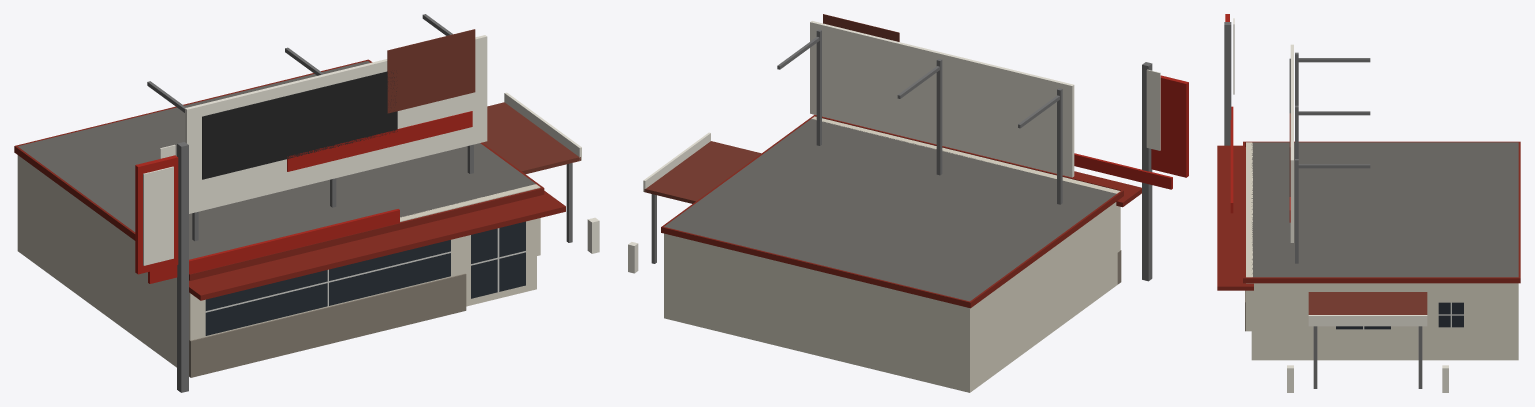
Rendered from minute-man-broadway.glb.
3 views of the same model, side by side, from view 1: azimuth 30°, elevation 25°; view 2: azimuth 150°, elevation 25°; view 3: azimuth 270°, elevation 25° (orthographic). The views are drawn at different scales.
Parts seen in each view (by area): view 1: minute_roof, minute_block, minute_sign, minute_trim, minute_glass, minute_signtext, minute_stone, minute_awning, minute_red, minute_steel, minute_sash; view 2: minute_roof, minute_block, minute_sign, minute_trim, minute_steel, minute_red, minute_awning; view 3: minute_roof, minute_block, minute_trim, minute_steel, minute_awning, minute_sign, minute_glass, minute_red.
Part boxes in pixels (left/top/right/bottom): minute_roof: left=18, top=61, right=535, bottom=259; minute_block: left=17, top=155, right=540, bottom=367; minute_sign: left=143, top=35, right=599, bottom=265; minute_trim: left=14, top=59, right=565, bottom=300; minute_glass: left=205, top=221, right=525, bottom=335; minute_signtext: left=202, top=71, right=397, bottom=179; minute_stone: left=189, top=273, right=466, bottom=377; minute_awning: left=387, top=29, right=580, bottom=174; minute_red: left=135, top=111, right=472, bottom=283; minute_steel: left=147, top=14, right=572, bottom=392; minute_sash: left=205, top=228, right=525, bottom=312; minute_roof: left=664, top=119, right=1116, bottom=301; minute_block: left=664, top=116, right=1120, bottom=392; minute_sign: left=628, top=21, right=1160, bottom=273; minute_trim: left=661, top=115, right=1141, bottom=308; minute_steel: left=651, top=29, right=1152, bottom=281; minute_red: left=1074, top=75, right=1188, bottom=189; minute_awning: left=644, top=14, right=899, bottom=203; minute_roof: left=1251, top=142, right=1518, bottom=277; minute_block: left=1246, top=142, right=1518, bottom=360; minute_trim: left=1217, top=141, right=1520, bottom=290; minute_steel: left=1224, top=22, right=1422, bottom=388; minute_awning: left=1289, top=113, right=1427, bottom=314; minute_sign: left=1233, top=18, right=1448, bottom=392; minute_glass: left=1336, top=302, right=1463, bottom=329; minute_red: left=1225, top=14, right=1290, bottom=222.
Size of the model in its own units: 20 by 9.6 by 13.28.
